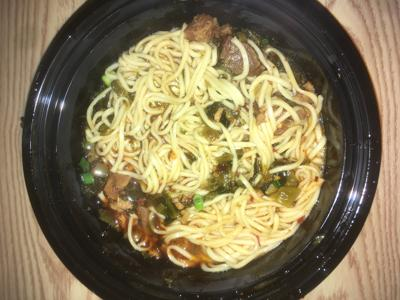nrm: (79, 14, 336, 281)
